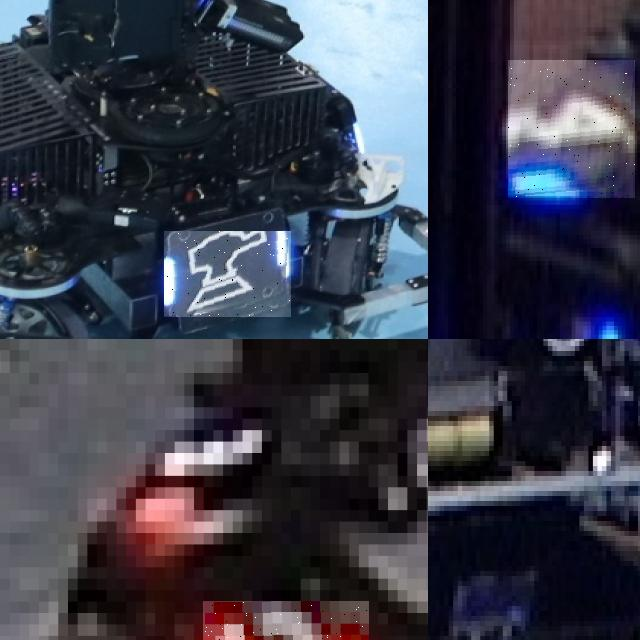B4: (508, 60, 635, 198)
Bs: (165, 231, 292, 317)
R3: (203, 601, 368, 640)
